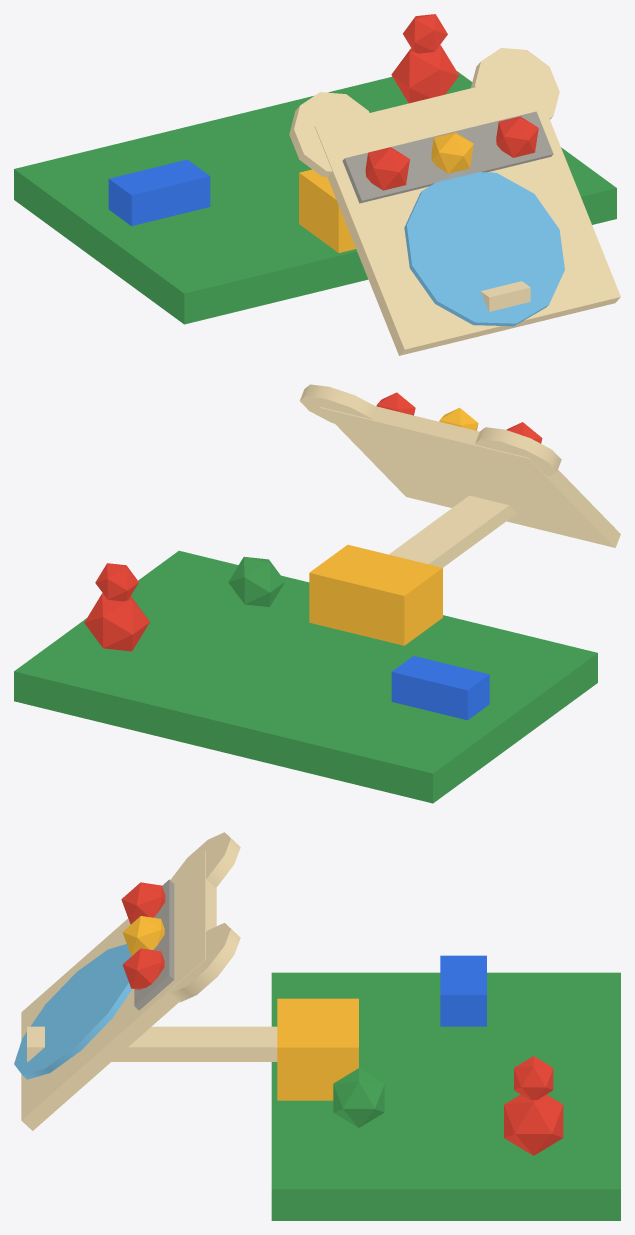
Rendered from pond-field.glb.
3 renders of one model, top to bottom at view 1: azimuth 30°, elevation 25°; view 2: azimuth 150°, elevation 25°; view 3: azimuth 270°, elevation 25°, orthographic. The views are drawn at different scales.
Size of the model in its own units: 4.4 by 2.12 by 5.21.
